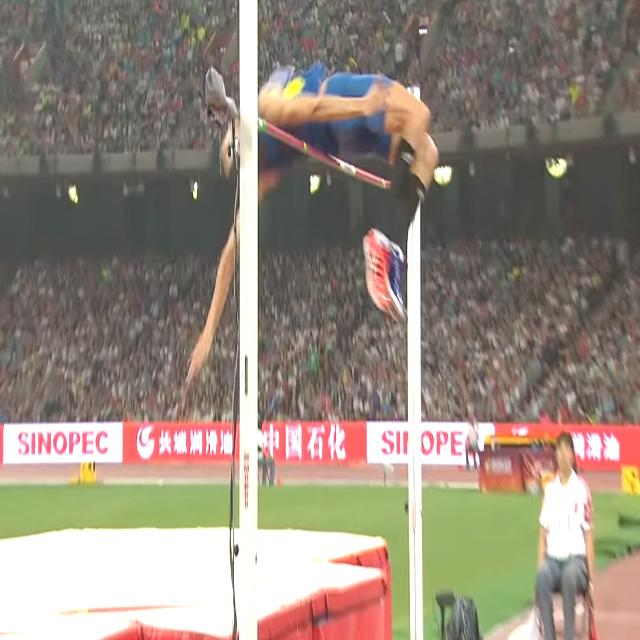jump: (188, 63, 437, 383)
